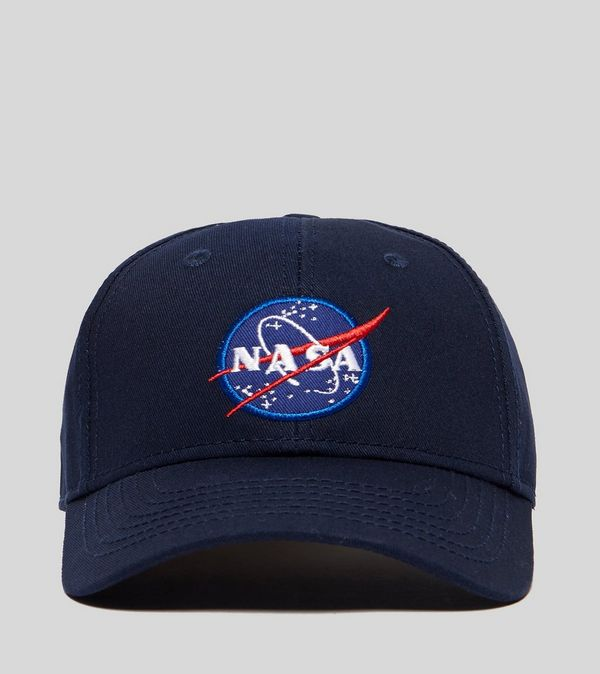NASA: (203, 294, 394, 421)
